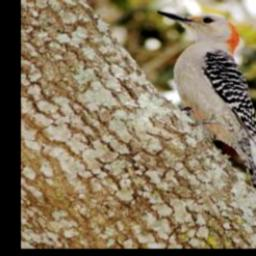Woodpecker: (152, 1, 256, 207)
